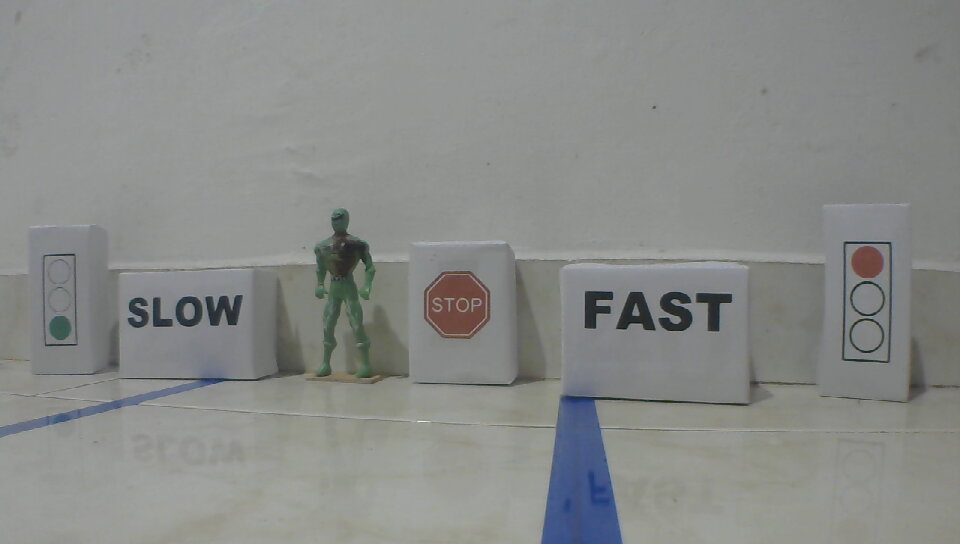Fast: (582, 287, 734, 335)
Green Traffic Light: (40, 252, 79, 350)
Person: (308, 205, 379, 385)
Red Traffic Light: (839, 240, 893, 366)
Slow: (124, 294, 246, 331)
Stop Sign: (421, 269, 491, 342)
